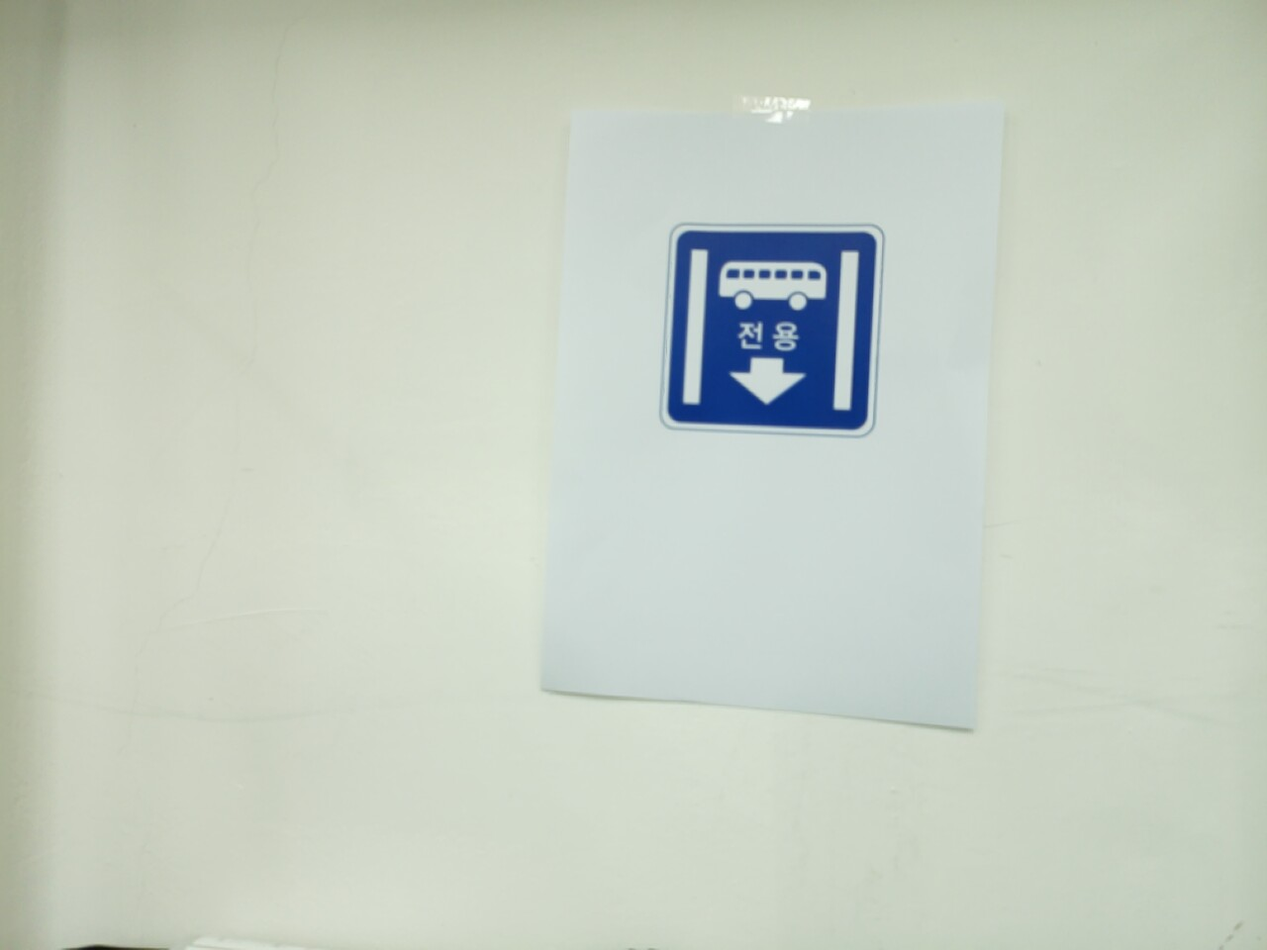bus_only_lane: (659, 223, 885, 438)
